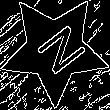N_SW: (24, 18, 86, 81)
